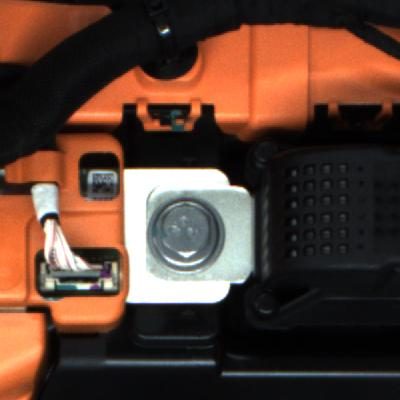nut_b: (138, 190, 230, 276)
